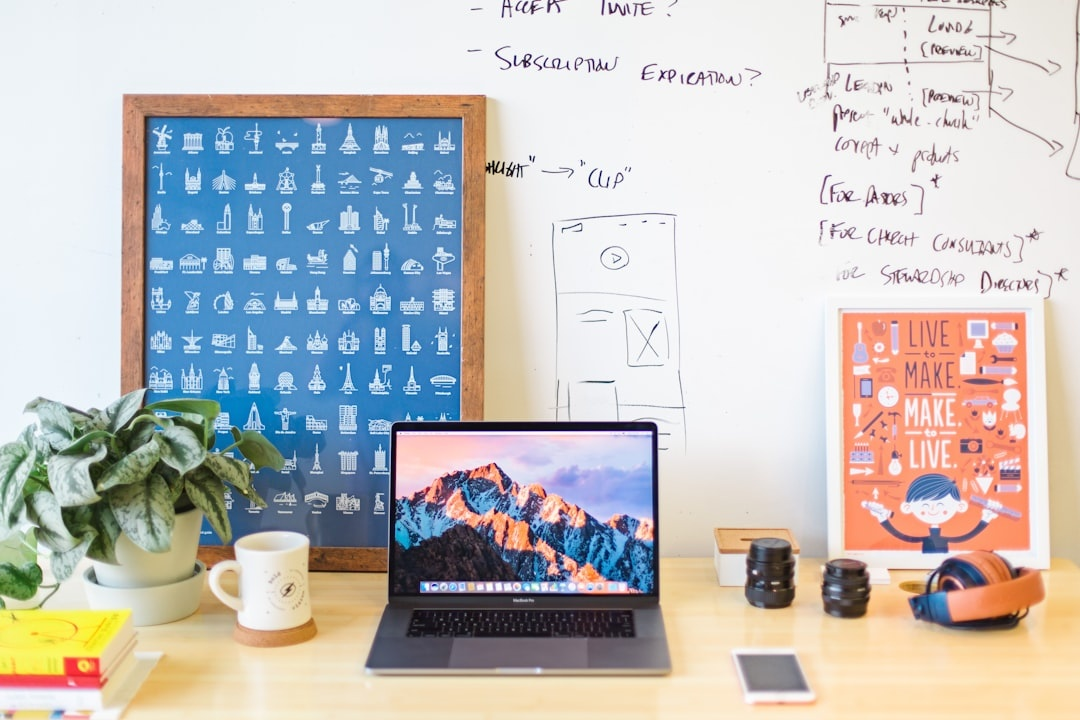laptop: (353, 409, 709, 693)
